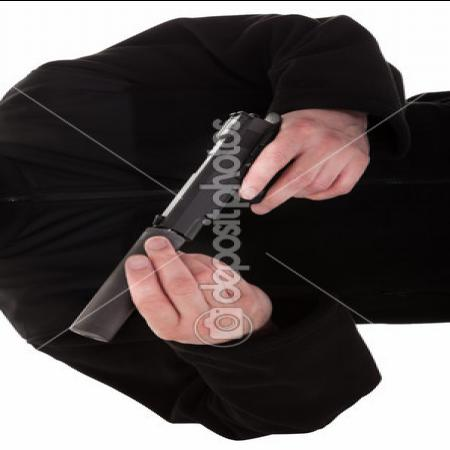Pistol: (60, 105, 318, 345)
